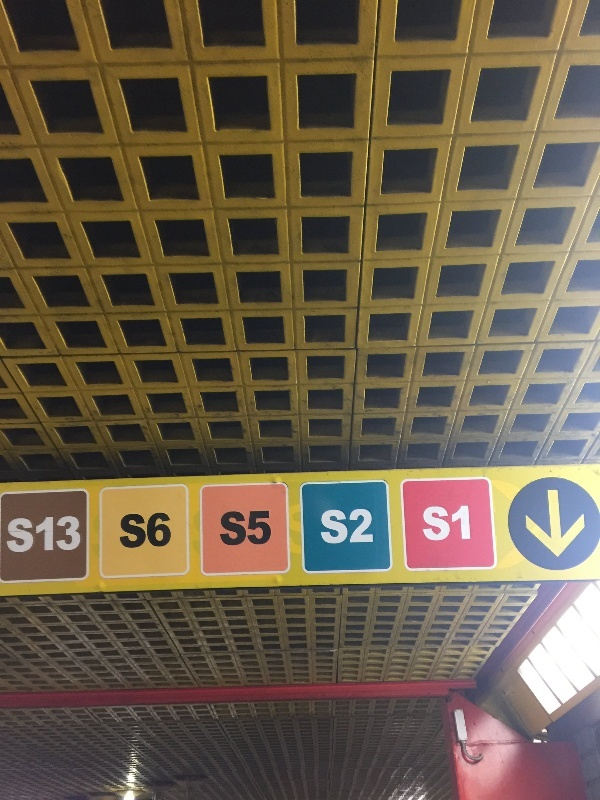text: (129, 511, 144, 553), (145, 511, 160, 553), (17, 516, 32, 556), (33, 516, 48, 556), (49, 516, 64, 556), (65, 516, 80, 556), (321, 508, 336, 547), (337, 508, 352, 547), (353, 508, 368, 547), (433, 506, 448, 544), (449, 506, 464, 544), (225, 511, 240, 547), (241, 511, 256, 547), (257, 511, 271, 547), (161, 511, 171, 553), (422, 506, 432, 544), (120, 511, 128, 553), (8, 516, 16, 556), (465, 506, 472, 544), (369, 508, 374, 547), (221, 511, 224, 547), (81, 516, 82, 556)
